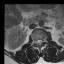CCS_normal: (38, 36, 40, 47)
LFS_normal: (43, 36, 45, 44)
LLS_normal: (40, 36, 43, 45)
RFS_normal: (33, 37, 35, 45)
RLS_normal: (35, 36, 38, 46)
